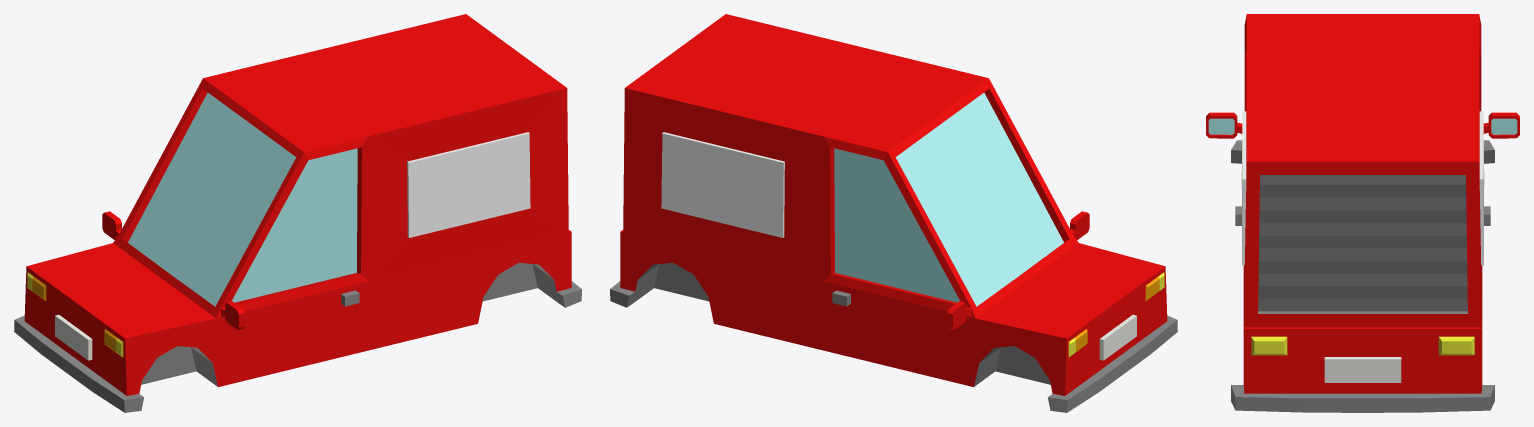
File: mailVanRed.fbx
The picture shows the model from 3 angles, left to right: view 1: azimuth 30°, elevation 25°; view 2: azimuth 150°, elevation 25°; view 3: azimuth 270°, elevation 25°; orthographic projection. The views are drawn at different scales.
Visible parts, largest first — view 1: mailVanRed; view 2: mailVanRed; view 3: mailVanRed.
Part boxes in pixels (<box>): mailVanRed: <box>14,14,581,412</box>; mailVanRed: <box>610,14,1177,412</box>; mailVanRed: <box>1206,14,1519,412</box>.
Size of the model in its own units: 351 by 302 by 686.
